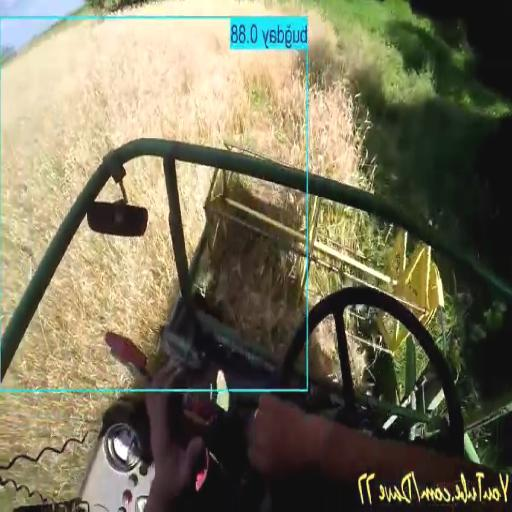bugday: (1, 20, 306, 332), (7, 157, 176, 386), (309, 12, 391, 192), (318, 204, 391, 261)
